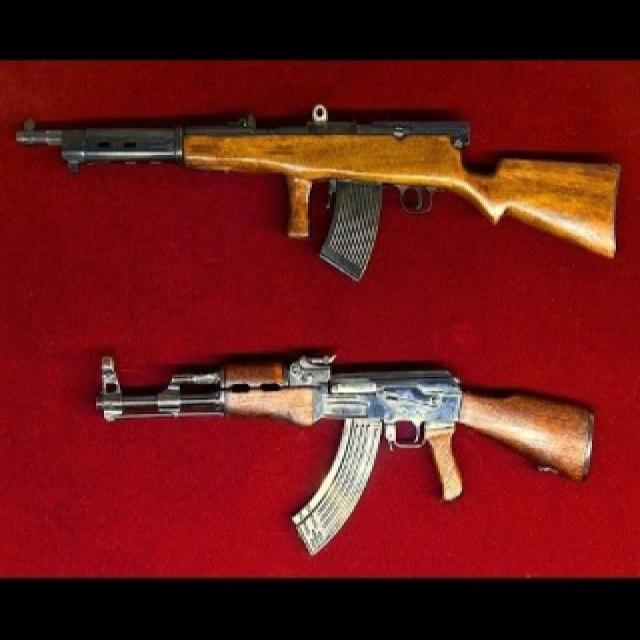rifle: (11, 105, 635, 283), (95, 350, 595, 559)
